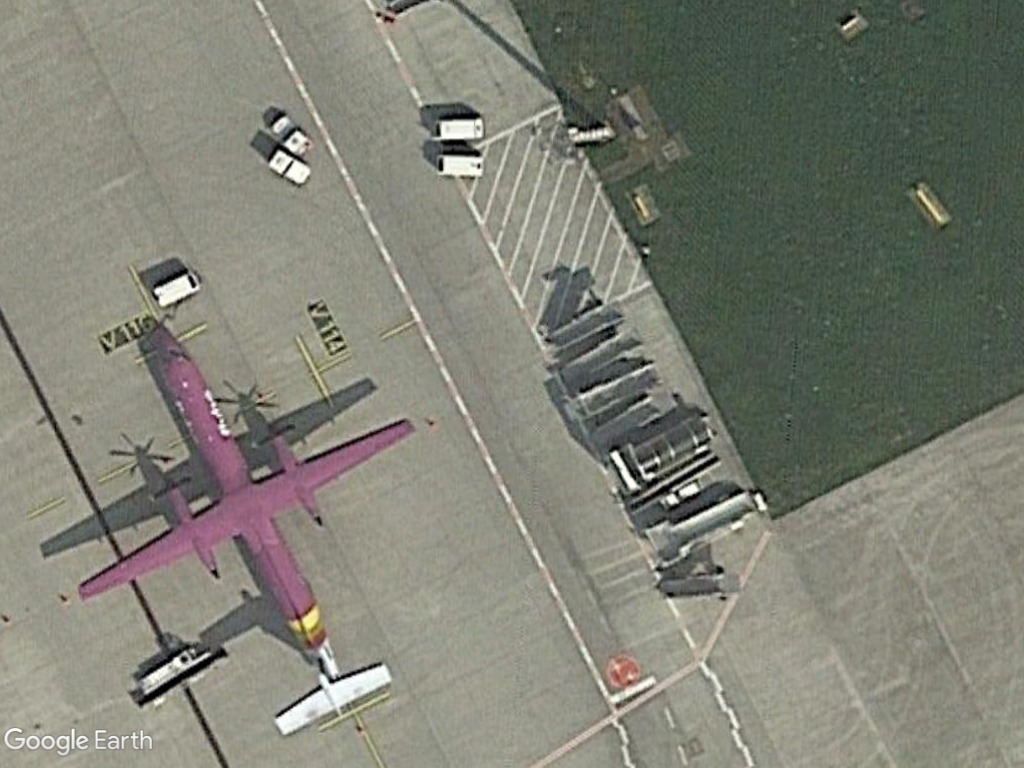propeller: (69, 321, 418, 737)
van: (148, 266, 203, 310)
